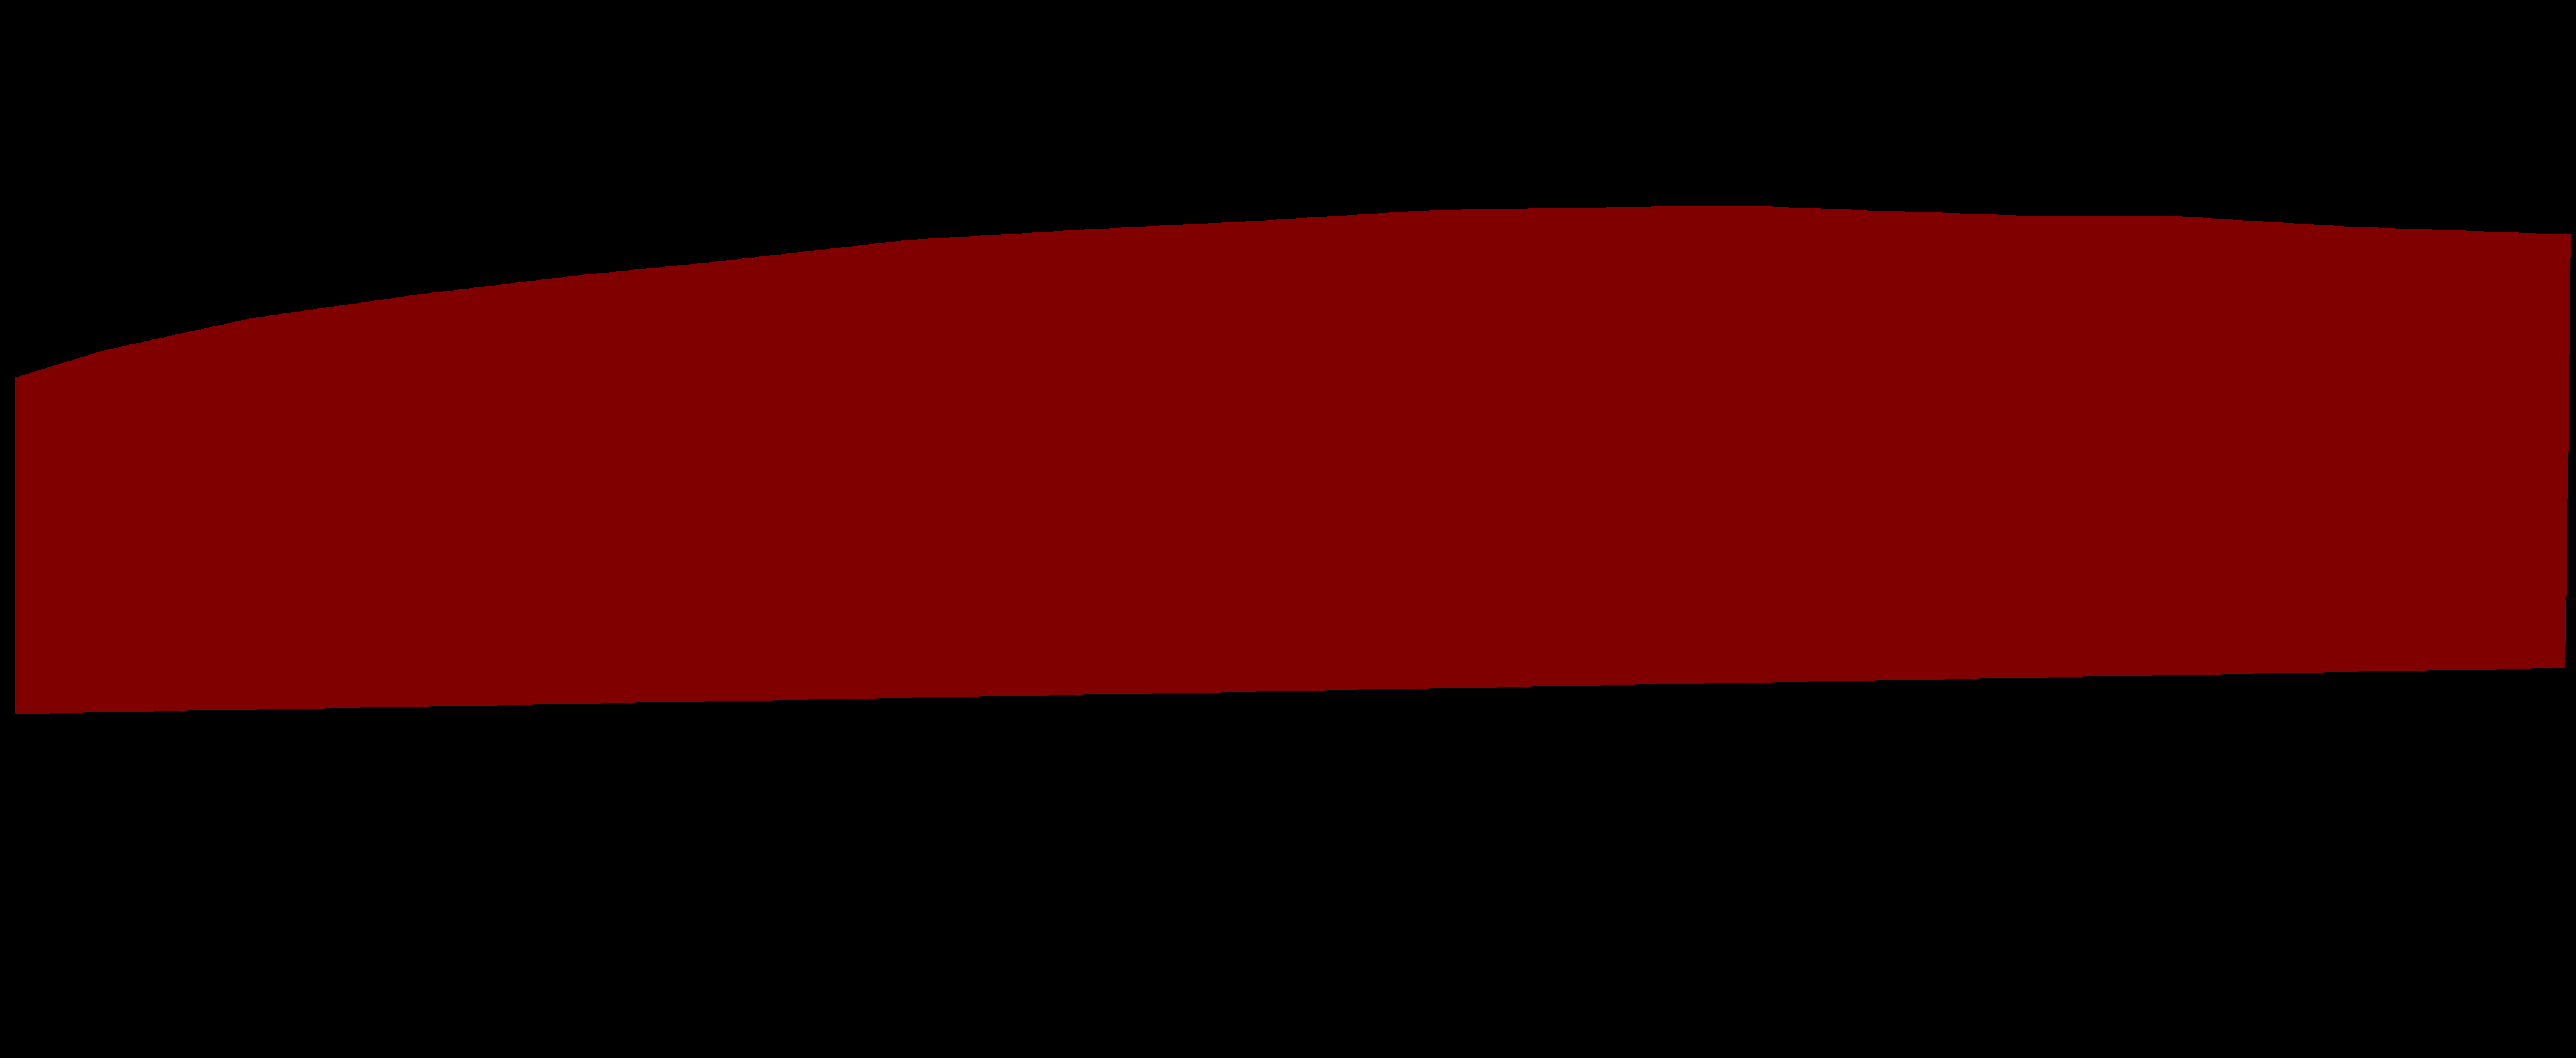sign: (15, 205, 2571, 713)
